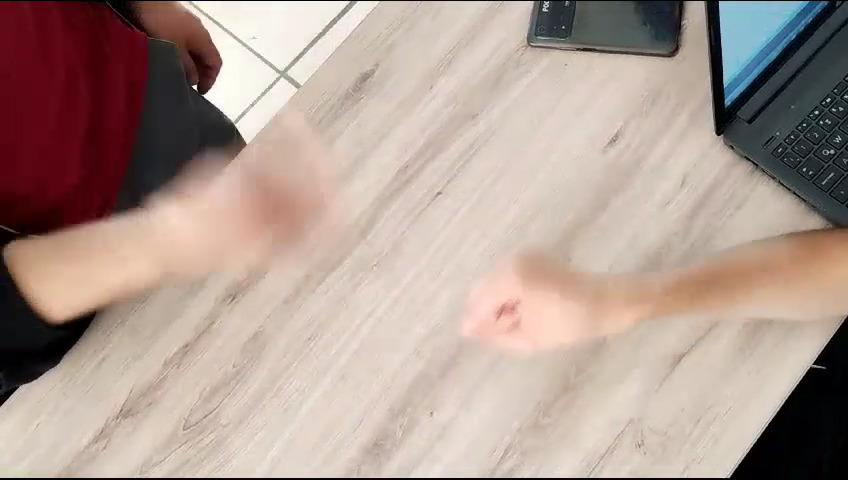Stone: (455, 222, 652, 410)
